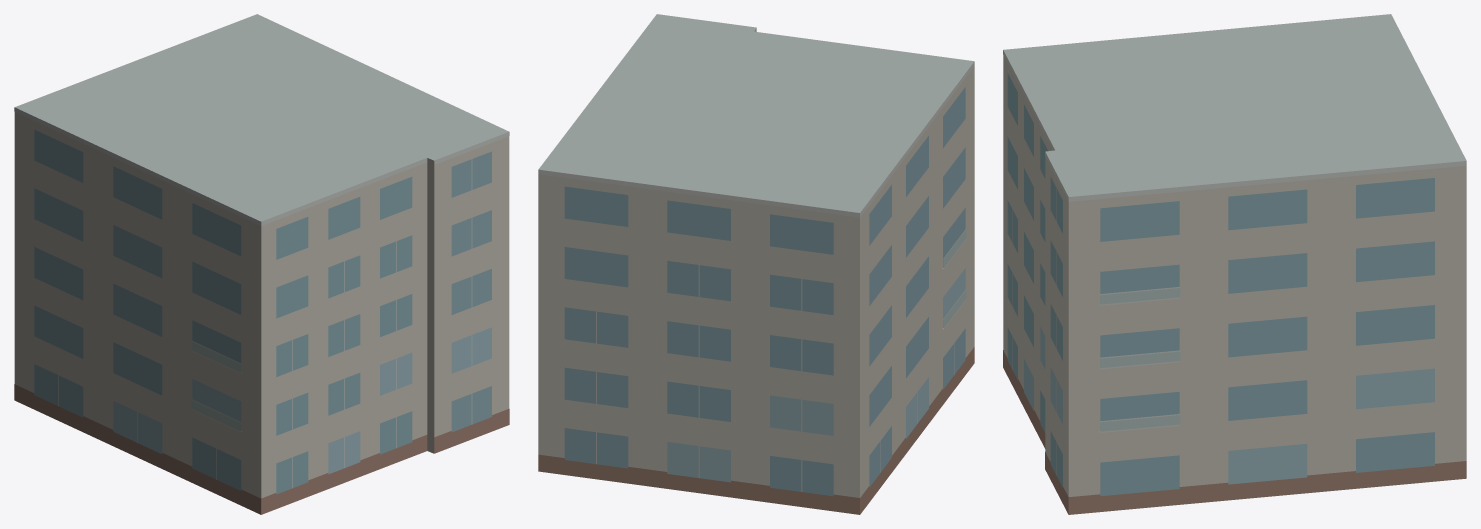
Rendered from survey-upis-33002399.glb.
The picture shows the model from 3 angles, left to right: view 1: azimuth 30°, elevation 25°; view 2: azimuth 150°, elevation 25°; view 3: azimuth 270°, elevation 25°; orthographic projection. The views are drawn at different scales.
Visible parts, largest first — view 1: survey-upis-33002399.tmp; view 2: survey-upis-33002399.tmp; view 3: survey-upis-33002399.tmp.
Part boxes in pixels (x1,y1,x2,y2): survey-upis-33002399.tmp: (14,14,509,514); survey-upis-33002399.tmp: (538,14,974,514); survey-upis-33002399.tmp: (1003,14,1466,514).
Size of the model in its own units: 19.99 by 16.17 by 21.39.
